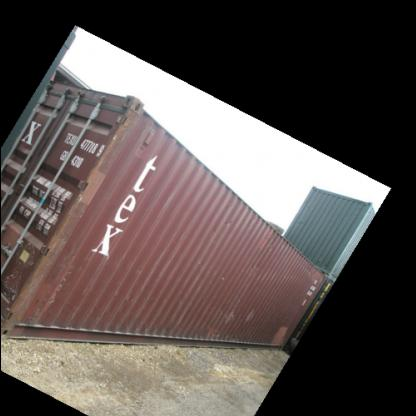Damage: (7, 218, 70, 319), (93, 110, 125, 168), (214, 293, 258, 327), (286, 253, 316, 289), (249, 225, 278, 252), (123, 258, 147, 282), (210, 209, 232, 226)
